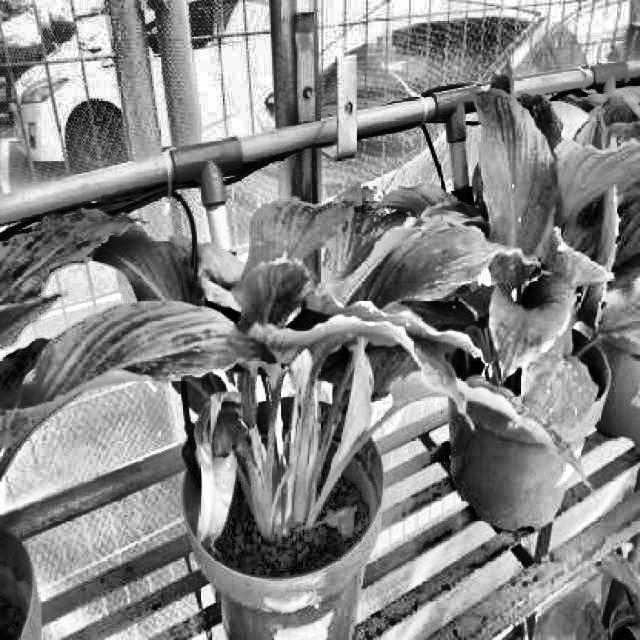plants: (0, 186, 506, 568), (387, 76, 640, 471)
